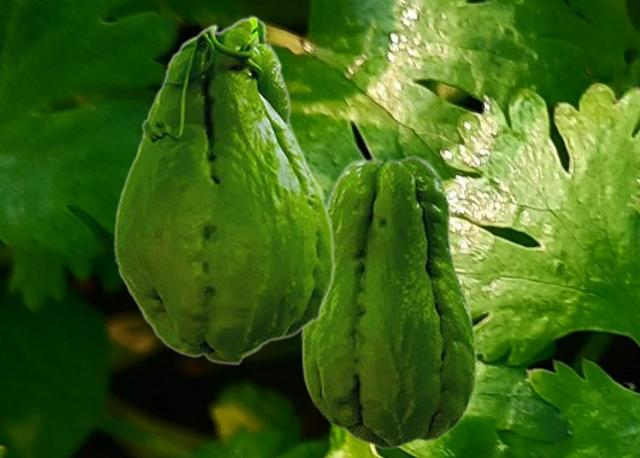sayote: (113, 15, 335, 365), (301, 154, 477, 449)
